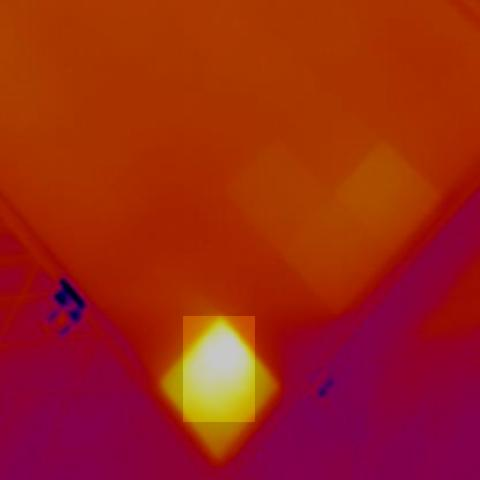fault: (183, 316, 255, 422)
